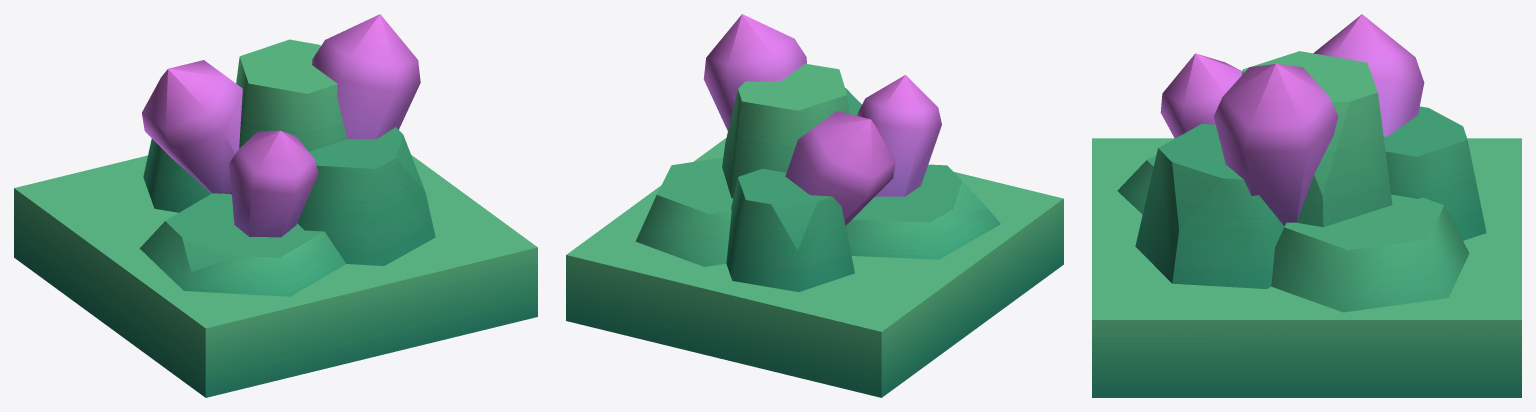
File: kenney-tower-defense-tile-crystal.glb
The picture shows the model from 3 angles, left to right: view 1: azimuth 30°, elevation 25°; view 2: azimuth 150°, elevation 25°; view 3: azimuth 270°, elevation 25°; orthographic projection. The views are drawn at different scales.
Parts seen in each view (by area): view 1: tile-crystal; view 2: tile-crystal; view 3: tile-crystal.
Boxes of the visible parts, x1,y1,x2,y2 form: tile-crystal: (14,14,537,397); tile-crystal: (566,14,1063,397); tile-crystal: (1092,14,1521,397).
Size of the model in its own units: 1 by 0.7518 by 1.
Materials: 1 (1 with a texture image).
